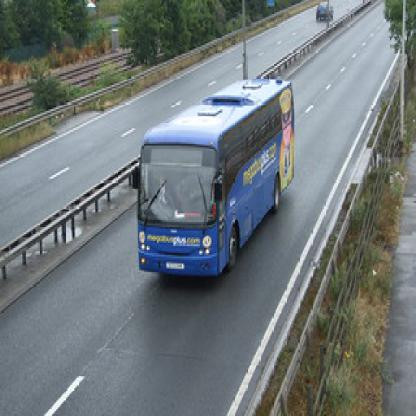bus: (139, 77, 296, 284)
car: (317, 3, 331, 20)
